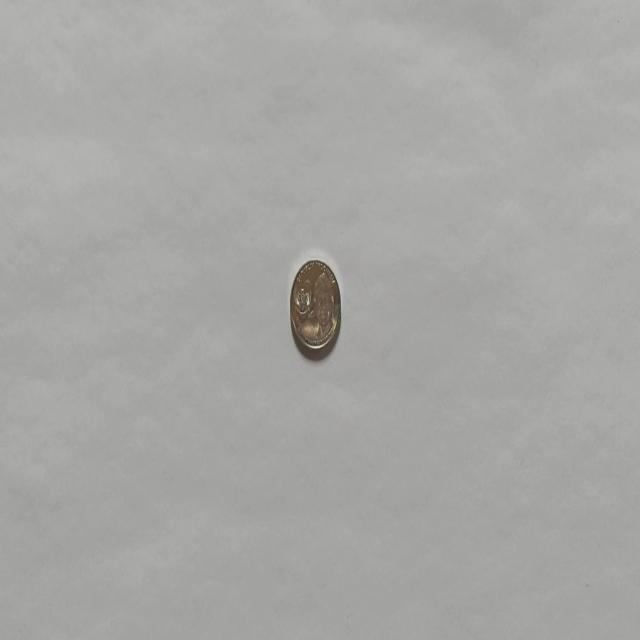dua ratus rupiah: (289, 257, 341, 351)
